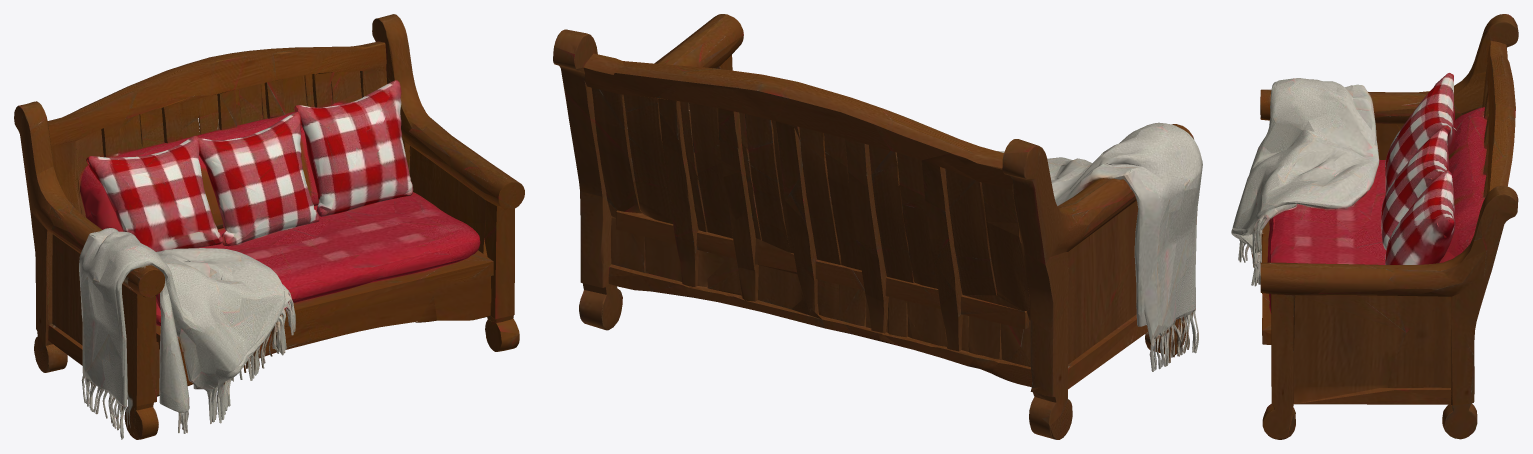
File: xmas_sofa.glb
3 renders of one model, left to right at view 1: azimuth 30°, elevation 25°; view 2: azimuth 150°, elevation 25°; view 3: azimuth 270°, elevation 25°, orthographic. The views are drawn at different scales.
Size of the model in its own units: 1.9 by 1.13 by 1.19.
Materials: 1 (1 with a texture image).
